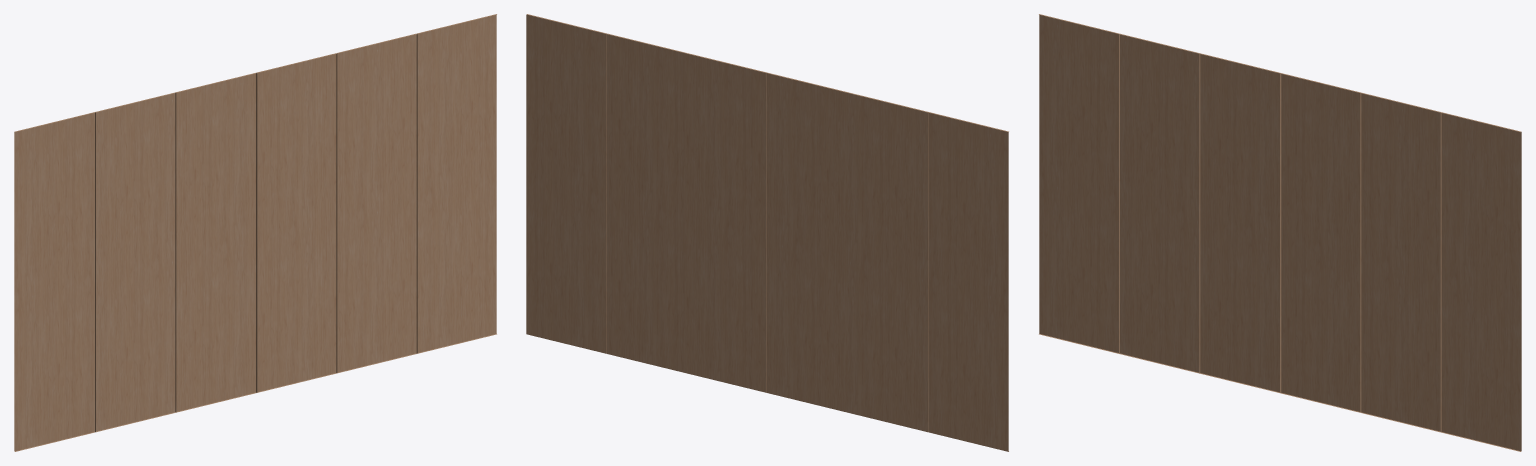
File: CR06_WoodPanel_Wall_Back.FBX
3 renders of one model, left to right at view 1: azimuth 30°, elevation 25°; view 2: azimuth 150°, elevation 25°; view 3: azimuth 330°, elevation 25°, orthographic.
Parts seen in each view (by area): view 1: CR06_WoodPanel_Wall_Back; view 2: CR06_WoodPanel_Wall_Back; view 3: CR06_WoodPanel_Wall_Back.
Boxes of the visible parts, x1,y1,x2,y2 form: CR06_WoodPanel_Wall_Back: [14, 14, 496, 451]; CR06_WoodPanel_Wall_Back: [526, 14, 1008, 451]; CR06_WoodPanel_Wall_Back: [1039, 14, 1521, 451].
Bounding box in the file's own units: 4973 × 3150 × 14.21.
